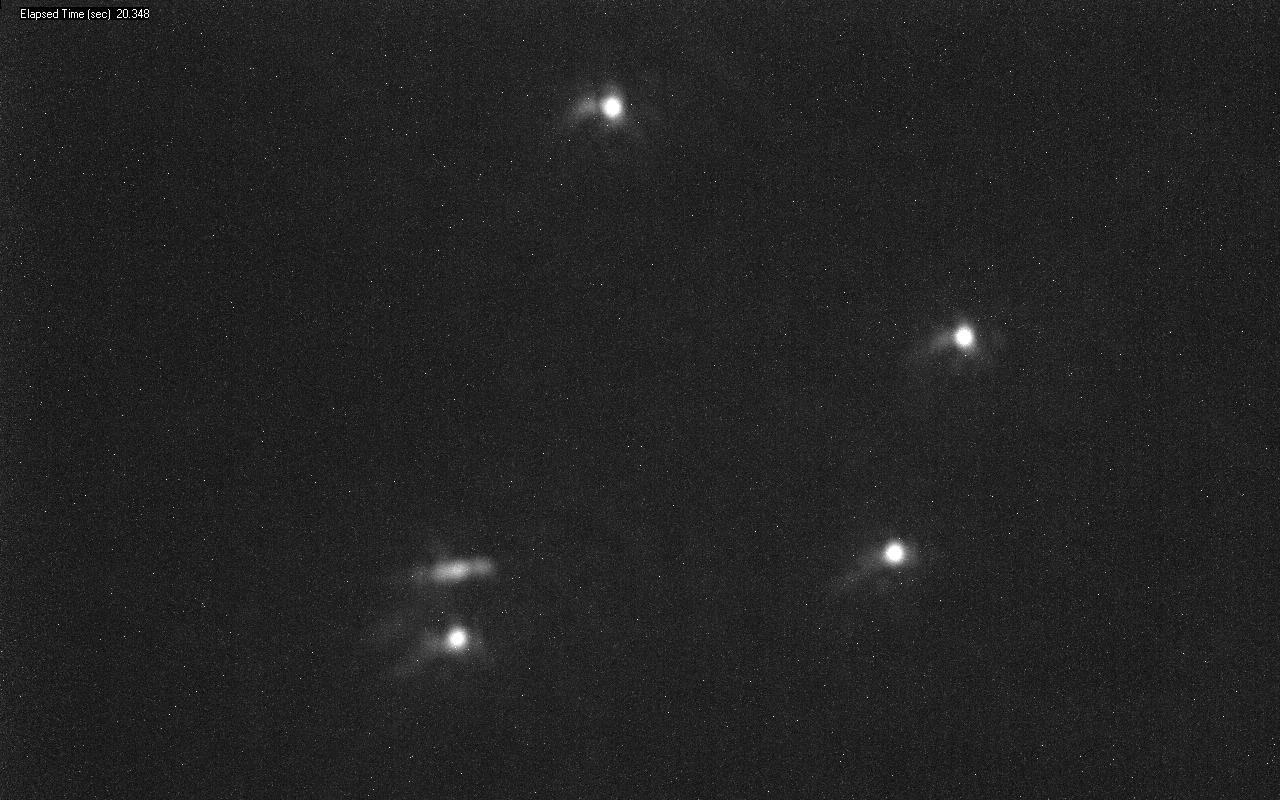Bead: (599, 94, 624, 120), (953, 325, 974, 350), (884, 544, 904, 563), (449, 627, 466, 648)
